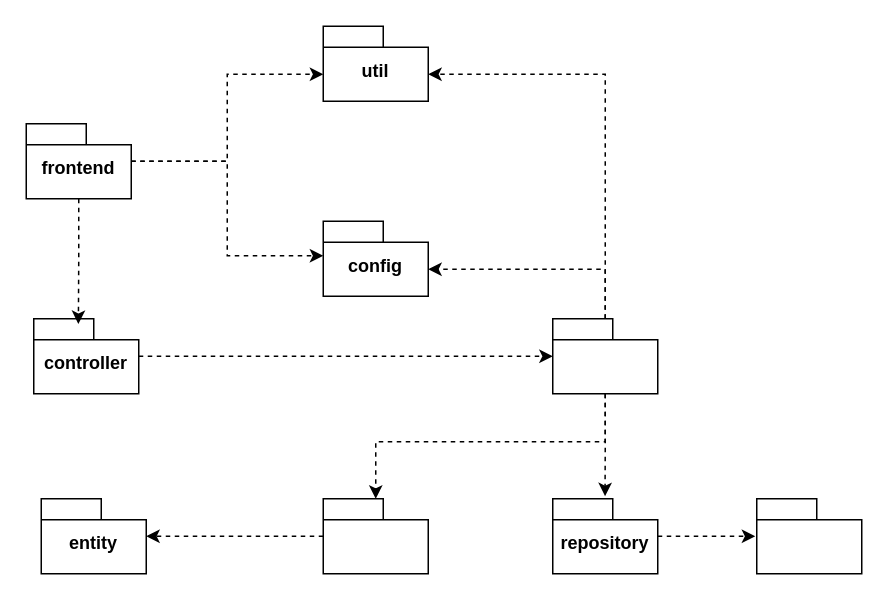
Image size: 888x600. Some labels were removed from this diagram. Here are the shapes that lost their labels. From the top down, the centre of each, then its label:
point (604, 355): service
point (375, 535): dto
point (808, 535): MySQL
